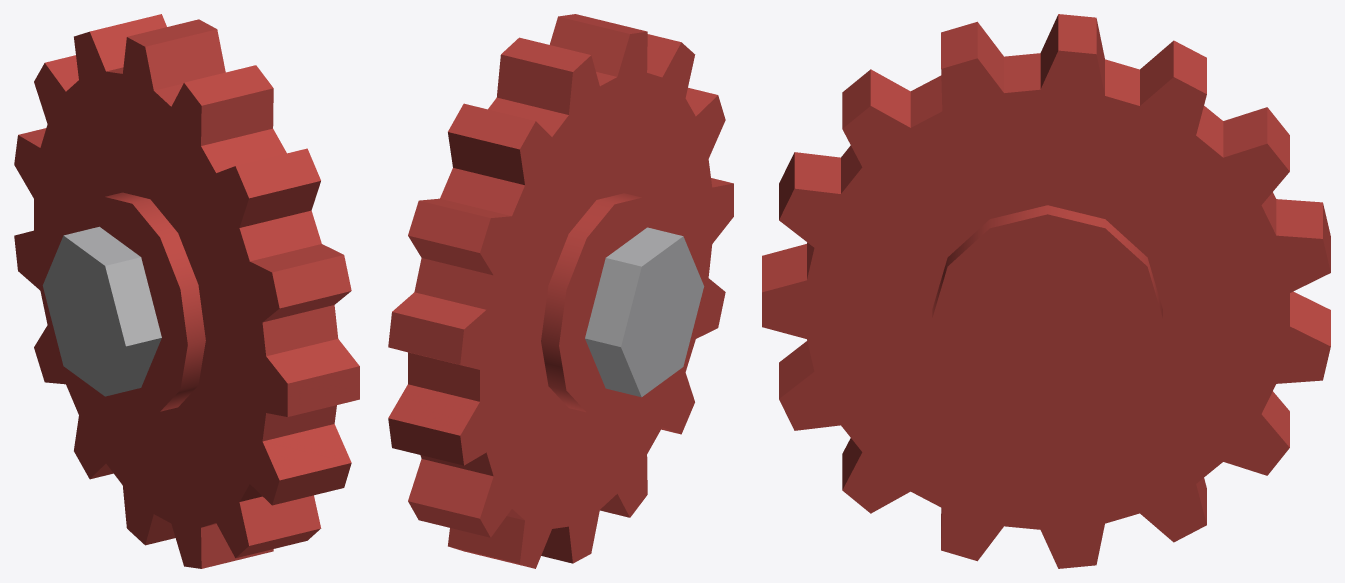
Rendered from front_15.glb.
3 views of the same model, side by side, from view 1: azimuth 30°, elevation 25°; view 2: azimuth 150°, elevation 25°; view 3: azimuth 270°, elevation 25° (orthographic). The views are drawn at different scales.
Visible parts, largest first — view 1: lod0; view 2: lod0; view 3: lod0.
Boxes of the visible parts, <box> form: lod0: <box>14,14,359,568</box>; lod0: <box>388,14,733,568</box>; lod0: <box>762,14,1330,568</box>.
Size of what is drawn, in the model's own units: 0.026 by 0.0793 by 0.0789.
